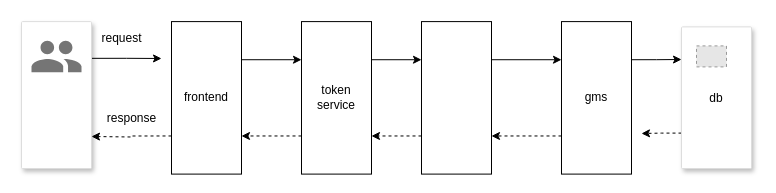
Image size: 776x193. Some labels were removed from this diagram. Grey dashed boxes stand in for pictures. The shapes that lost their labels are listed below. From the top down, each one's centre as x and y in pixels, then its label:
At [57,96]: "Users".
At [456,97]: "authenticator chain".
